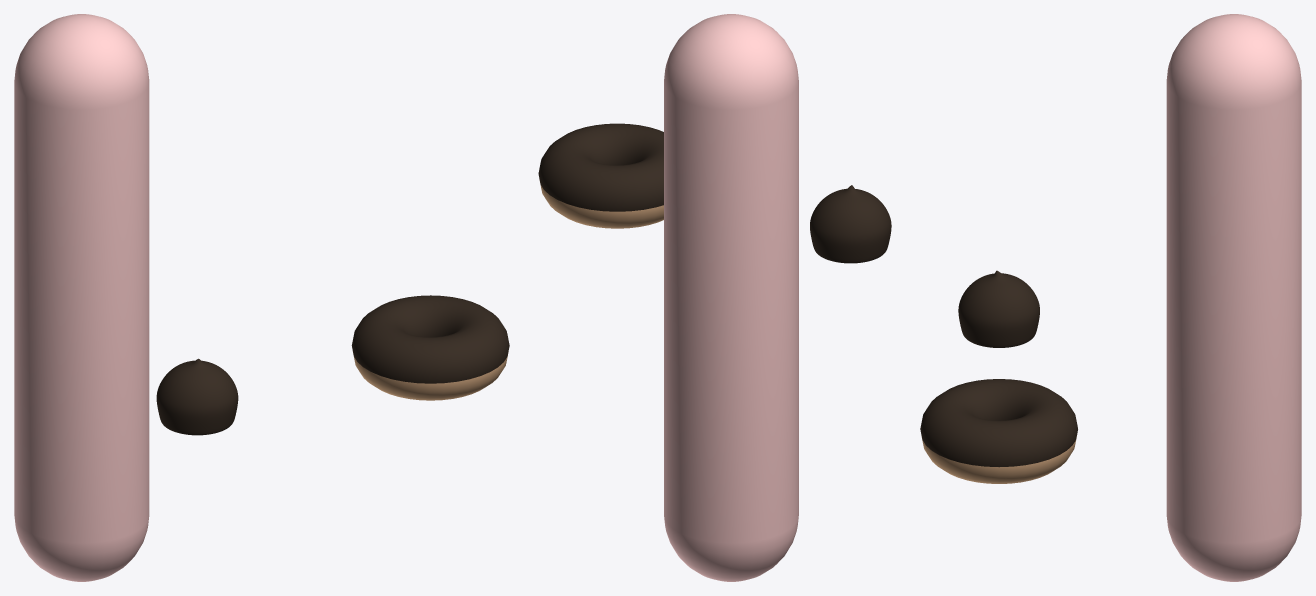
The model's file is furthercandy.fbx.
3 renders of one model, left to right at view 1: azimuth 30°, elevation 25°; view 2: azimuth 150°, elevation 25°; view 3: azimuth 270°, elevation 25°, orthographic.
Visible parts, largest first — view 1: Berg, Ring.1, Schokokuss, Ring; view 2: Berg, Ring.1, Schokokuss, Ring; view 3: Berg, Ring.1, Schokokuss, Ring.
Part boxes in pixels (x1,y1,x2,y2): Berg: (14, 14, 149, 581); Ring.1: (351, 295, 509, 383); Schokokuss: (156, 358, 238, 435); Ring: (352, 351, 508, 400); Berg: (664, 14, 798, 581); Ring.1: (538, 123, 663, 211); Schokokuss: (810, 185, 891, 263); Ring: (539, 179, 663, 228); Berg: (1166, 14, 1301, 581); Ring.1: (920, 379, 1077, 467); Schokokuss: (958, 270, 1039, 347); Ring: (921, 436, 1076, 483).
Bounding box in the file's own units: 1057 × 1566 × 974.
